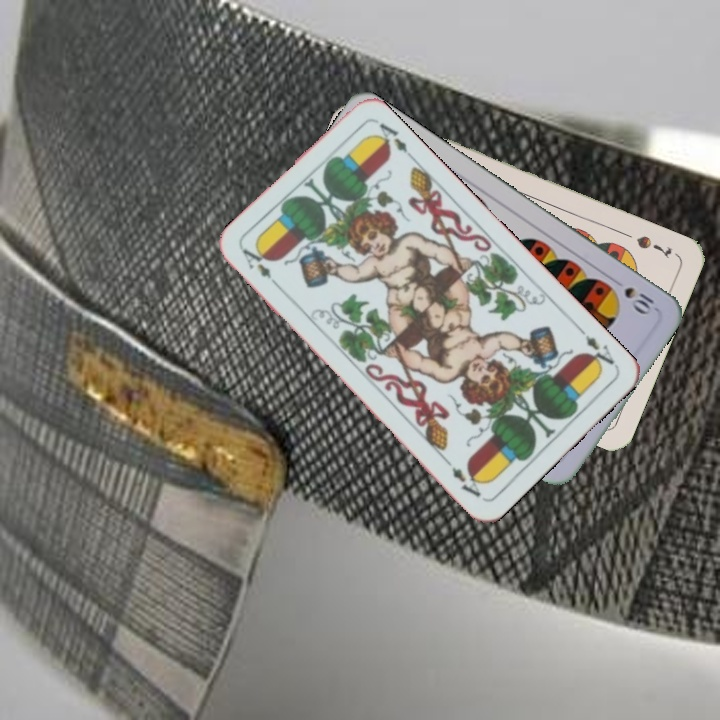EA: (573, 323, 619, 374), (238, 244, 284, 292)
S10: (607, 273, 659, 317)
S7: (632, 231, 674, 262)
